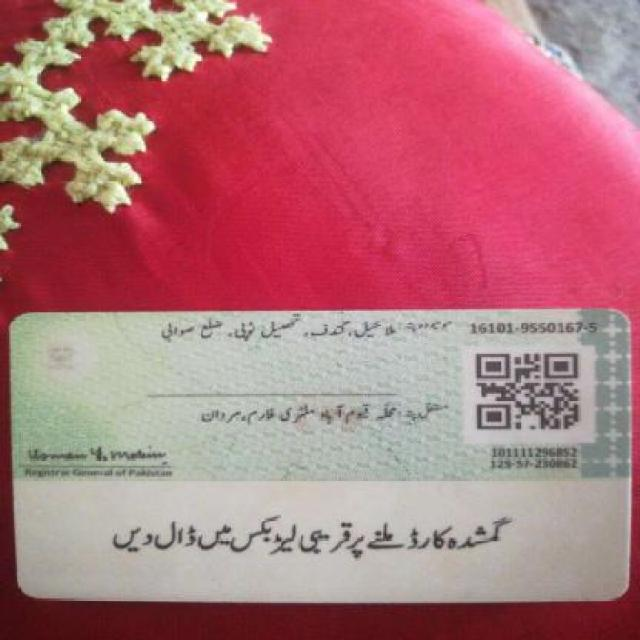Back: (5, 305, 637, 600)
